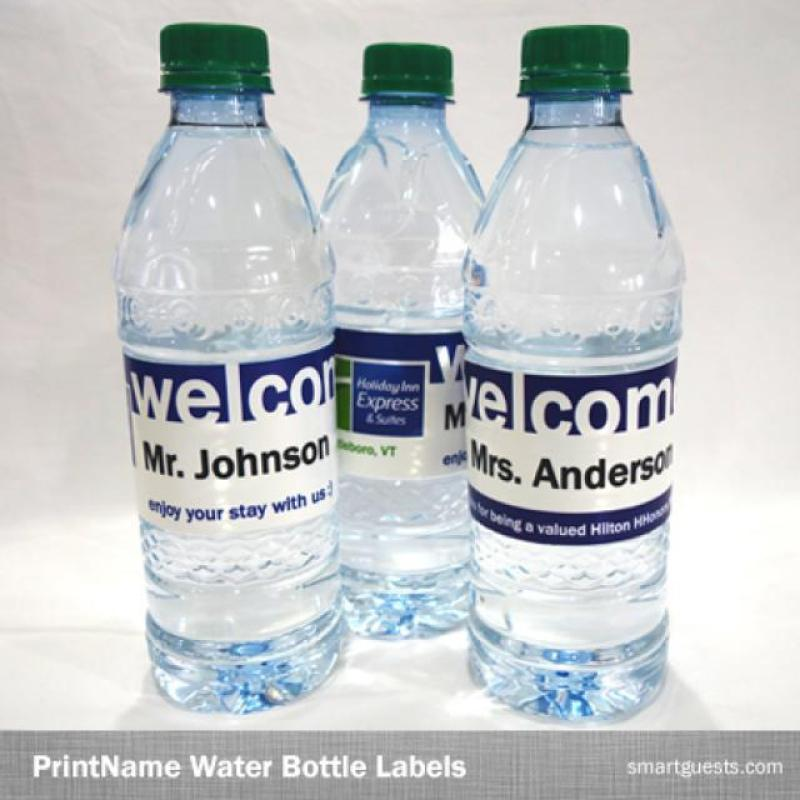botella: (114, 21, 344, 714), (461, 23, 685, 722), (319, 41, 486, 641)
